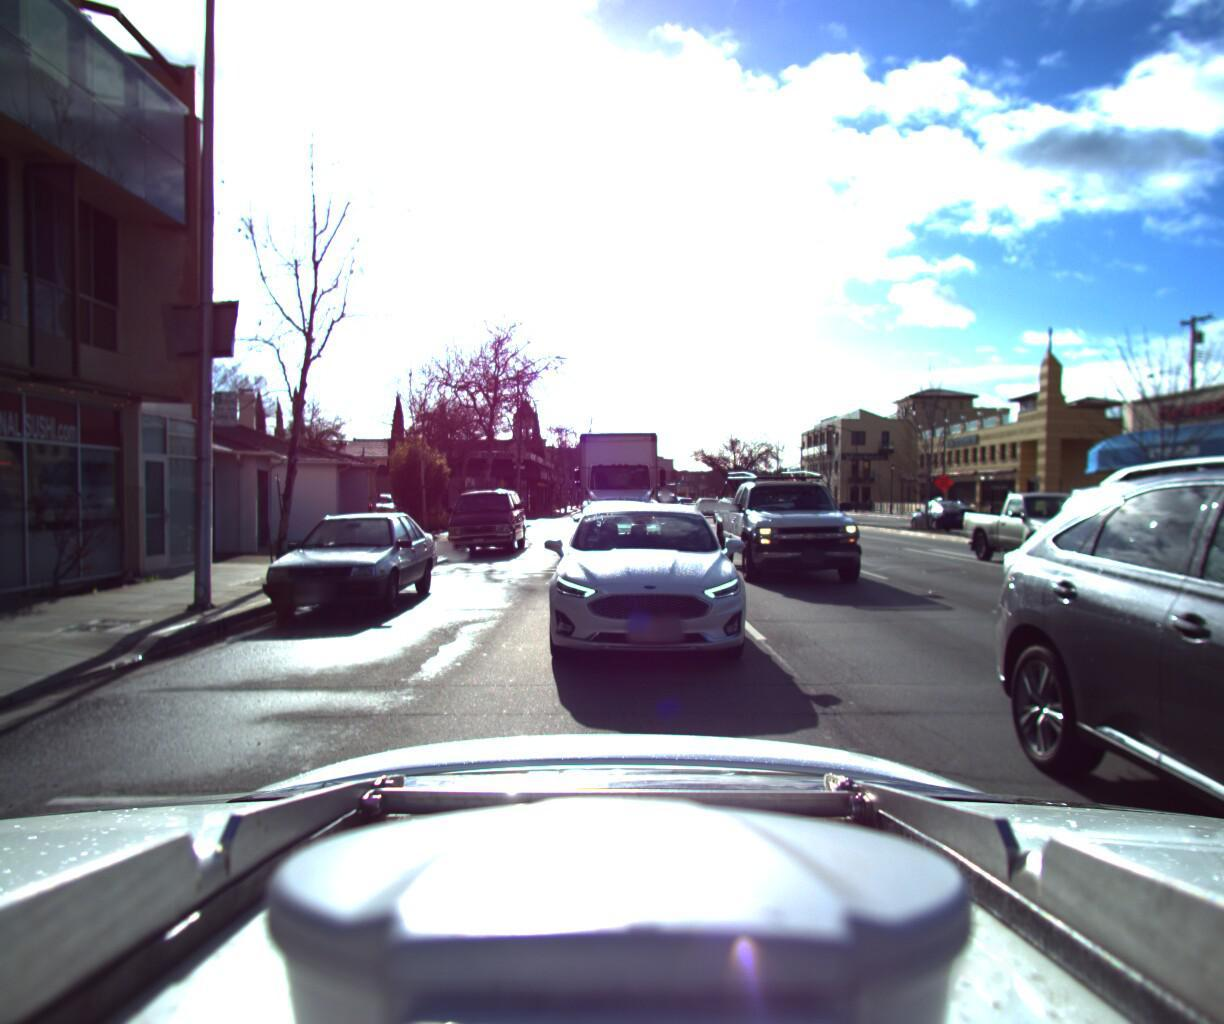car: (976, 297, 1224, 1024), (508, 493, 762, 688), (236, 505, 444, 622), (712, 455, 876, 590), (961, 482, 1165, 571), (569, 493, 670, 576), (434, 482, 533, 554), (903, 499, 975, 534), (647, 490, 690, 521)
truck: (564, 422, 668, 548)
